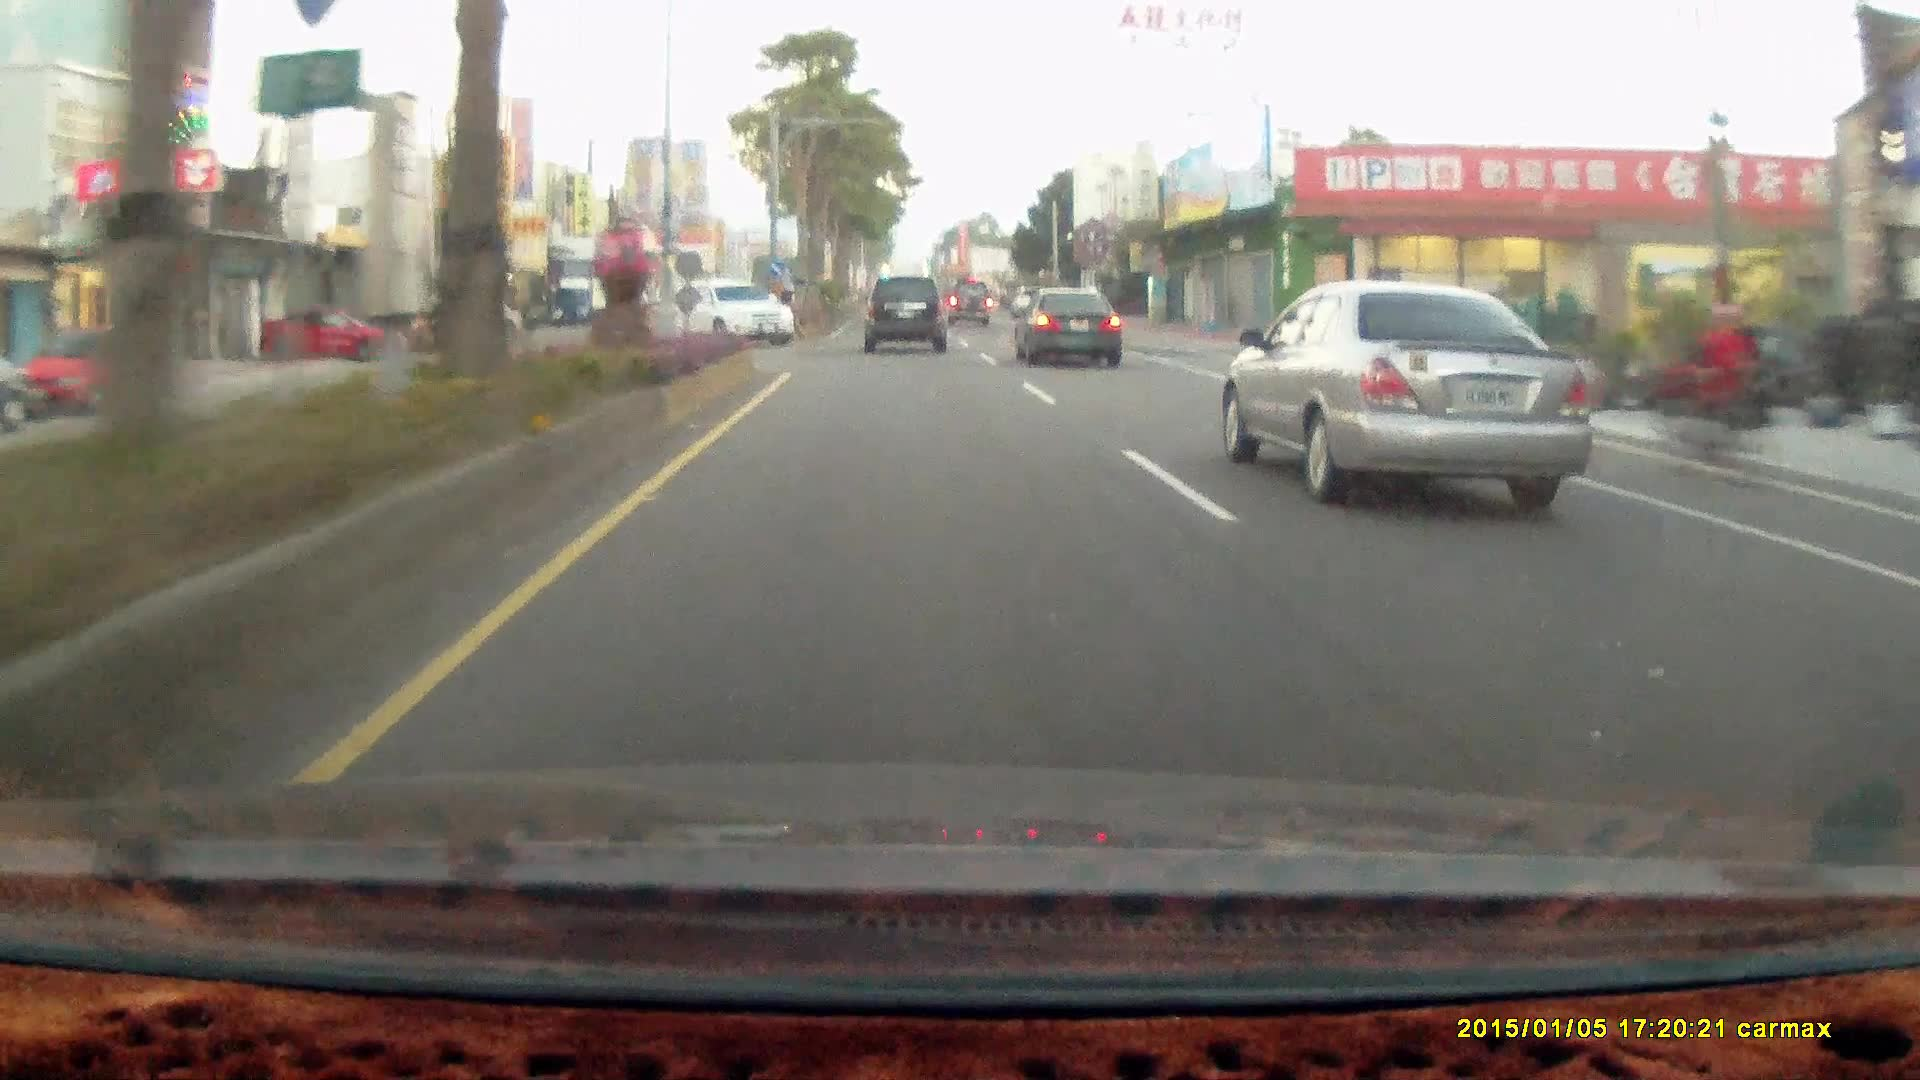pedestrian: (1685, 298, 1755, 481), (1702, 301, 1761, 466)
vehicle: (1239, 281, 1597, 506), (19, 326, 159, 414), (19, 326, 158, 414), (1011, 284, 1128, 370), (254, 305, 414, 362), (665, 279, 795, 348), (1011, 286, 1121, 367), (259, 305, 411, 361), (689, 280, 800, 350), (863, 277, 954, 355), (862, 274, 945, 352), (945, 281, 995, 331), (946, 274, 994, 324), (0, 338, 26, 430)
